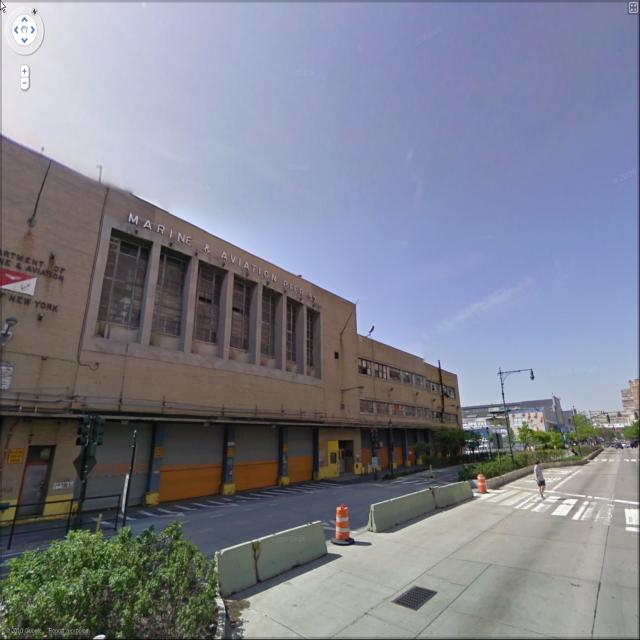b_1: (0, 125, 468, 438), (583, 406, 640, 442), (612, 372, 640, 415)
